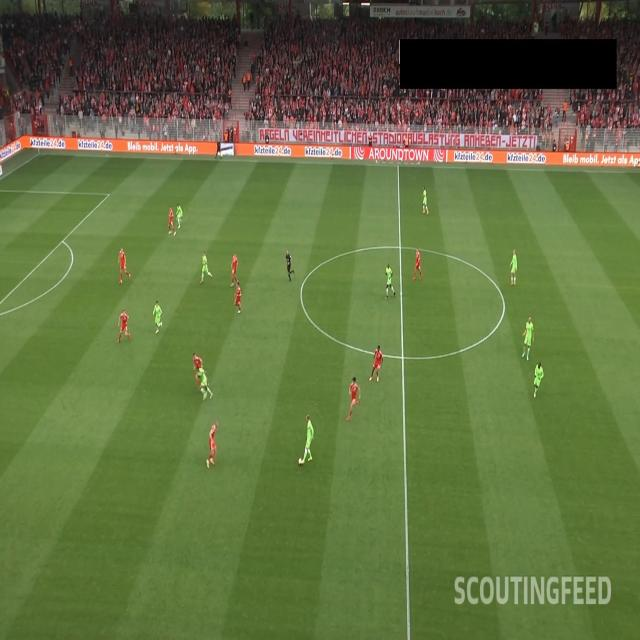ball: (298, 457, 302, 465)
